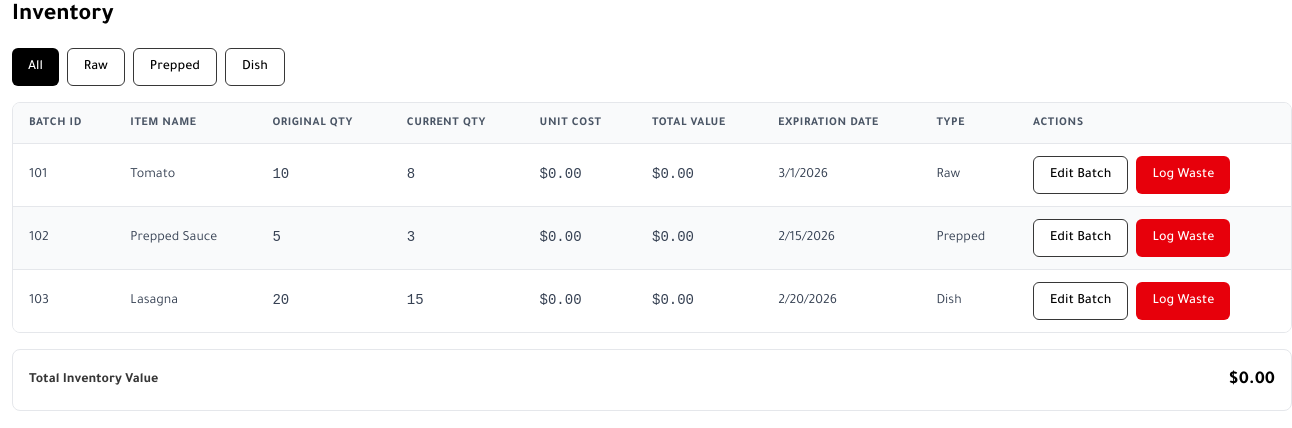
it: InventoryPage › filters to show only Prepped items when Prepped filter is clicked
Expected: the text "Prepped Sauce" is shown, 114,206 -> 256,270
Step 1. Click the button "Prepped" → (175,67), box 133,48 -> 217,86
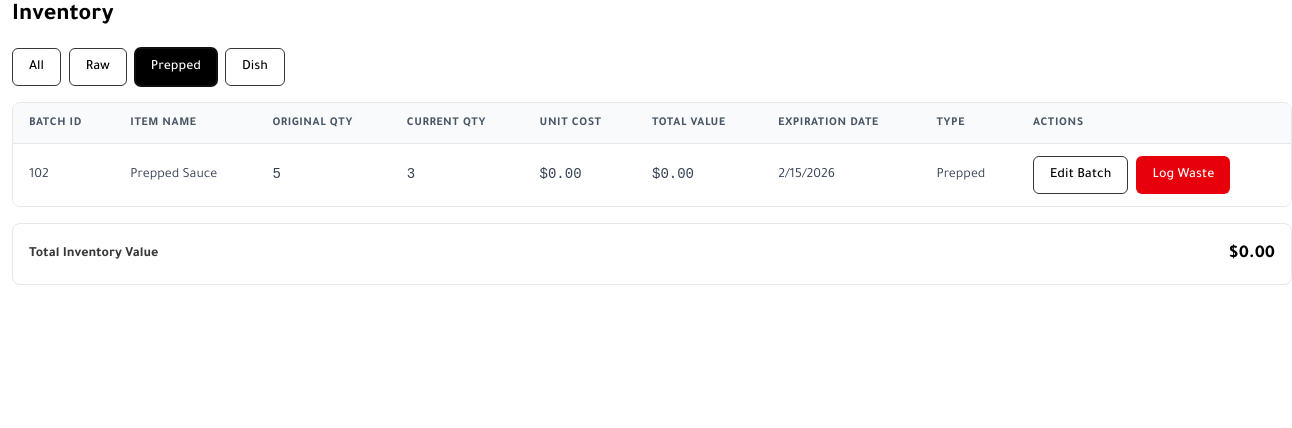
Expected: the text "Prepped Sauce" is shown, 114,144 -> 256,206
Expected: the text "Tomato" is gone
